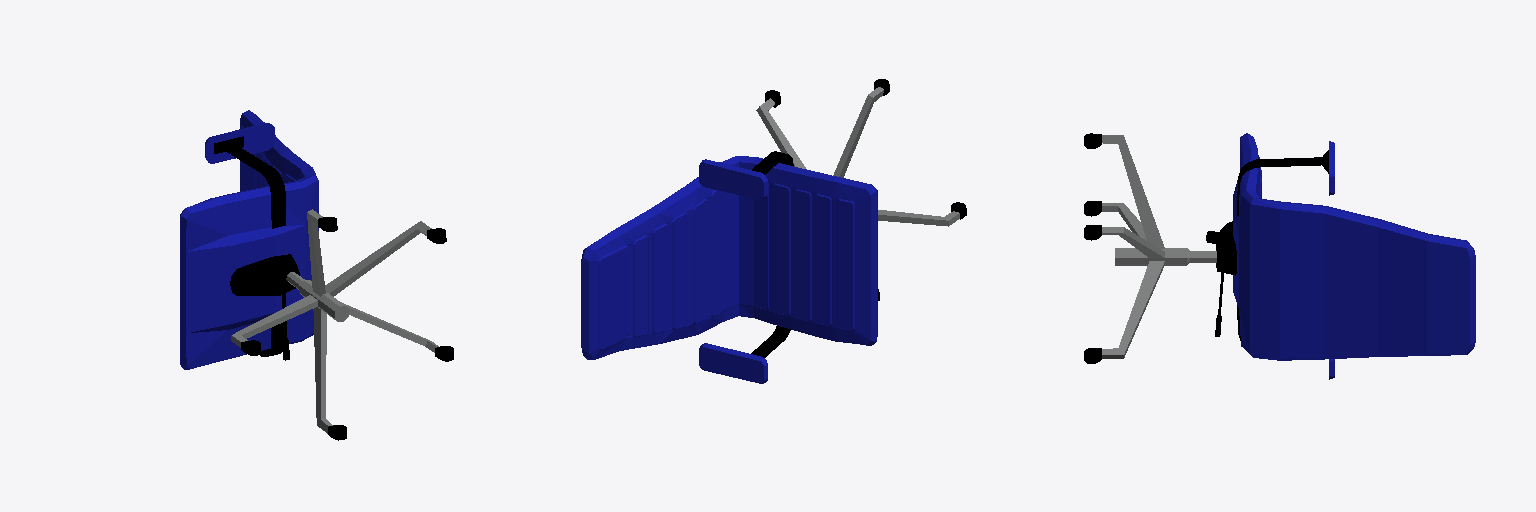
The model's file is converted5_chair.obj.
The picture shows the model from 3 angles: view 1: azimuth 30°, elevation 25°; view 2: azimuth 150°, elevation 25°; view 3: azimuth 270°, elevation 25°; orthographic projection.
Parts seen in each view (by area): view 1: Chair_01_Chair__1__lib; view 2: Chair_01_Chair__1__lib; view 3: Chair_01_Chair__1__lib.
Part boxes in pixels (left/top/right/bottom): Chair_01_Chair__1__lib: left=180, top=110, right=453, bottom=440; Chair_01_Chair__1__lib: left=581, top=79, right=966, bottom=383; Chair_01_Chair__1__lib: left=1084, top=133, right=1475, bottom=379.
Bounding box in the file's own units: 221 × 224 × 361.